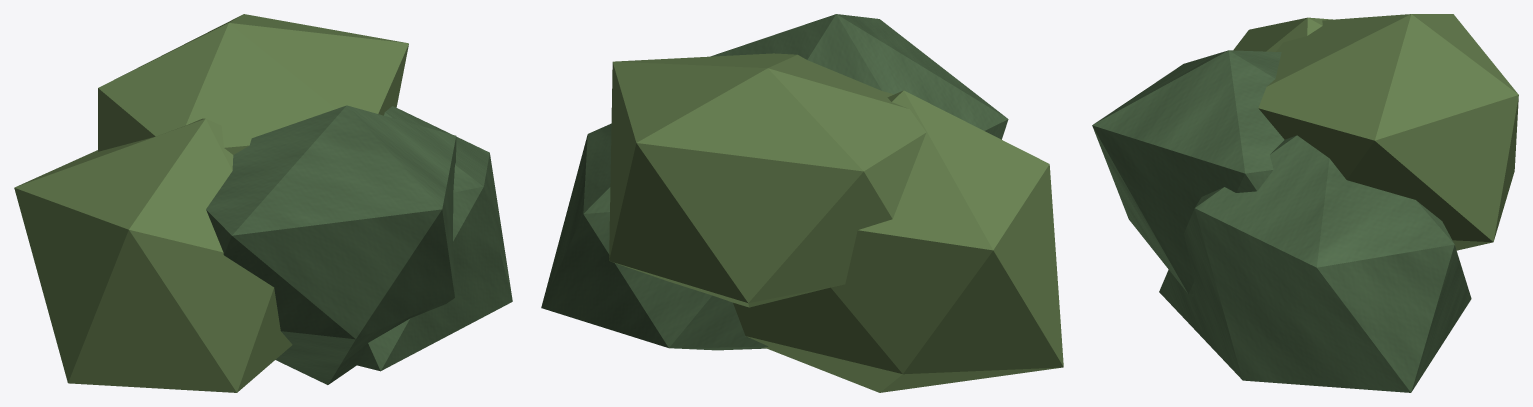
Rendered from shrub.glb.
The picture shows the model from 3 angles, left to right: view 1: azimuth 30°, elevation 25°; view 2: azimuth 150°, elevation 25°; view 3: azimuth 270°, elevation 25°; orthographic projection. The views are drawn at different scales.
Parts seen in each view (by area): view 1: shrub; view 2: shrub; view 3: shrub.
Boxes of the visible parts, x1,y1,x2,y2 form: shrub: [14, 14, 512, 392]; shrub: [541, 14, 1063, 392]; shrub: [1092, 14, 1518, 392].
Size of the model in its own units: 1.4 by 0.999 by 1.19.
2 materials, 1 textured.
